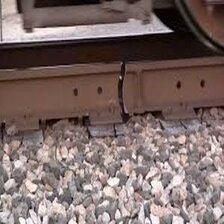railway-gap: (86, 55, 156, 124)
